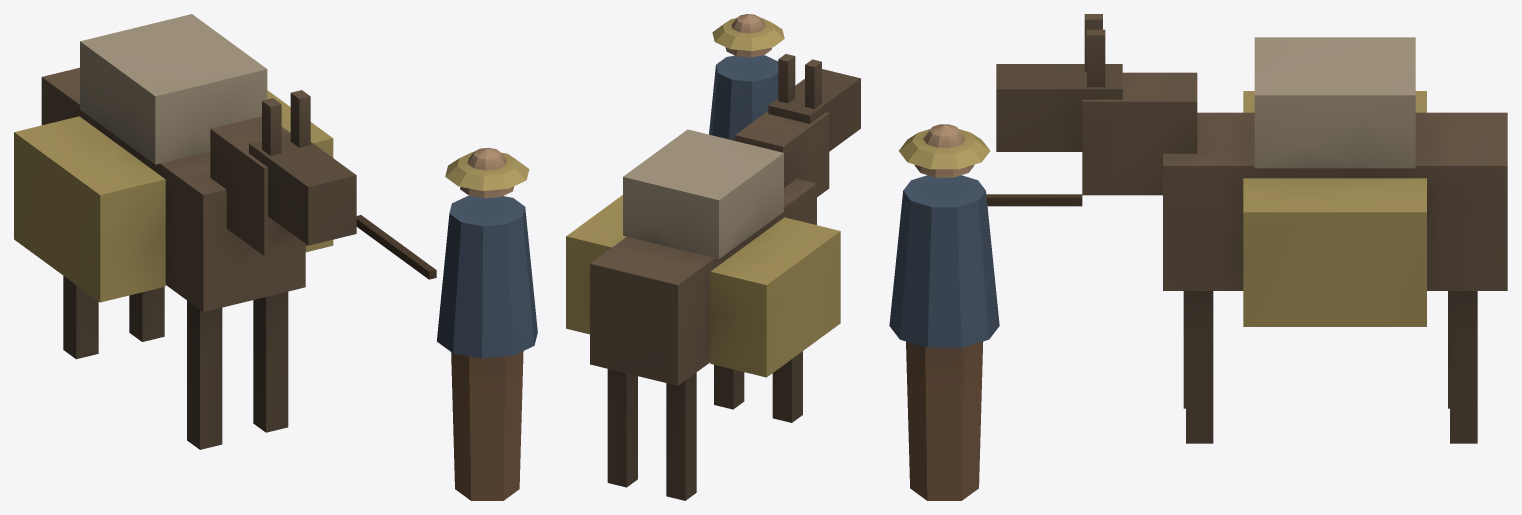
File: mule.glb
The picture shows the model from 3 angles, left to right: view 1: azimuth 30°, elevation 25°; view 2: azimuth 150°, elevation 25°; view 3: azimuth 270°, elevation 25°; orthographic projection. The views are drawn at different scales.
Visible parts, largest first — view 1: base; view 2: base; view 3: base.
Part boxes in pixels (bbox=[...]): base: bbox=[14, 14, 537, 500]; base: bbox=[566, 14, 860, 500]; base: bbox=[889, 14, 1507, 500].
Size of the model in its own units: 1.55 by 1.9 by 2.69.
